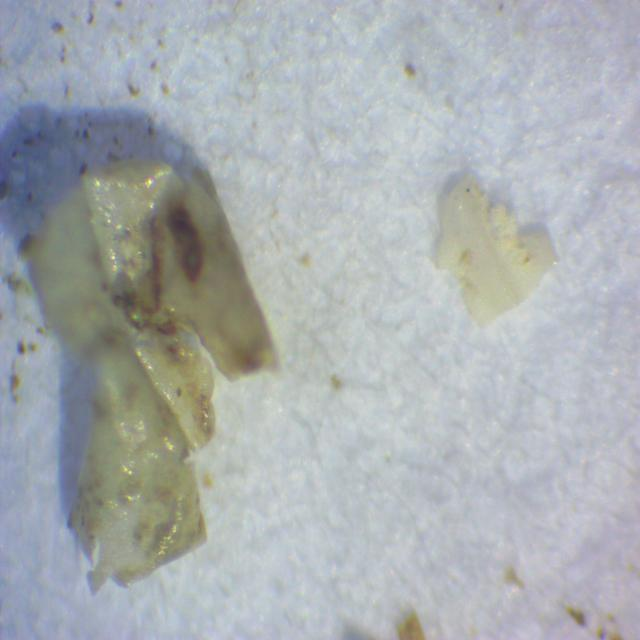microplastic: (25, 160, 280, 596), (438, 172, 565, 331)
